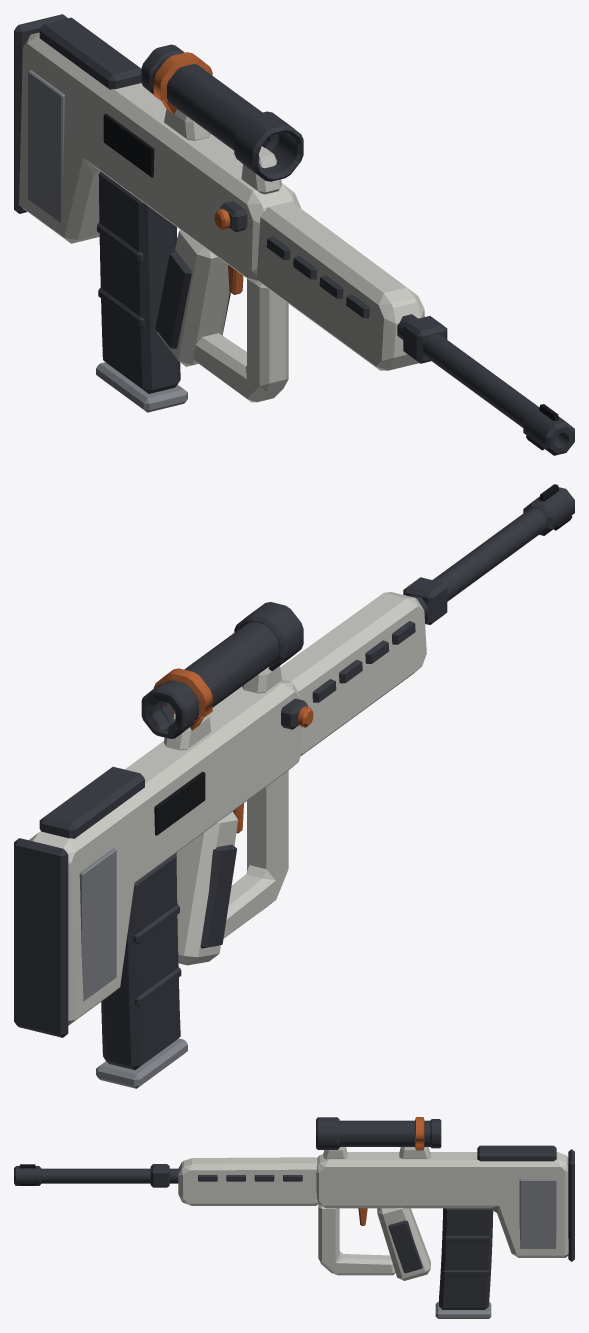
File: w_ar@ar_bullpup.glb
3 renders of one model, top to bottom at view 1: azimuth 30°, elevation 25°; view 2: azimuth 150°, elevation 25°; view 3: azimuth 270°, elevation 25°, orthographic. The views are drawn at different scales.
Visible parts, largest first — view 1: body_wzA__shell__pc6c7c1, guard_wzA__shell__pc6c7c1, mag_wzB__dark__p353840, grip_wzA__shell__pc6c7c1, optic_wzB__dark__p353840, barrel_wzB__dark__p353840, stock_wzB__dark__p353840, body_wzN__grey__p7e8288, grip_wzN__dark__p353840, trim_wzN__black__p16171b, mag_wzN__grey__p7e8288, optic_wzA__shell__pc6c7c1 (+2 smaller); view 2: body_wzA__shell__pc6c7c1, stock_wzB__dark__p353840, mag_wzB__dark__p353840, guard_wzA__shell__pc6c7c1, grip_wzA__shell__pc6c7c1, optic_wzB__dark__p353840, barrel_wzB__dark__p353840, body_wzN__grey__p7e8288, grip_wzN__dark__p353840, trim_wzN__black__p16171b, mag_wzN__grey__p7e8288, guard_wzN__dark__p353840 (+2 smaller); view 3: body_wzA__shell__pc6c7c1, guard_wzA__shell__pc6c7c1, mag_wzB__dark__p353840, grip_wzA__shell__pc6c7c1, optic_wzB__dark__p353840, barrel_wzB__dark__p353840, body_wzN__grey__p7e8288, stock_wzB__dark__p353840, grip_wzN__dark__p353840, optic_wzA__shell__pc6c7c1, mag_wzN__grey__p7e8288, guard_wzN__dark__p353840 (+1 smaller).
Part boxes in pixels (<box>): body_wzA__shell__pc6c7c1: <box>19,32,301,282</box>; guard_wzA__shell__pc6c7c1: <box>256,201,424,370</box>; mag_wzB__dark__p353840: <box>97,171,180,393</box>; grip_wzA__shell__pc6c7c1: <box>157,229,288,402</box>; optic_wzB__dark__p353840: <box>141,44,303,181</box>; barrel_wzB__dark__p353840: <box>397,314,574,455</box>; stock_wzB__dark__p353840: <box>14,14,141,213</box>; body_wzN__grey__p7e8288: <box>28,70,64,222</box>; grip_wzN__dark__p353840: <box>155,250,230,348</box>; trim_wzN__black__p16171b: <box>103,113,558,450</box>; mag_wzN__grey__p7e8288: <box>96,362,187,412</box>; optic_wzA__shell__pc6c7c1: <box>164,109,281,194</box>; body_wzA__shell__pc6c7c1: <box>29,680,302,1025</box>; stock_wzB__dark__p353840: <box>14,766,144,1037</box>; mag_wzB__dark__p353840: <box>101,854,181,1069</box>; guard_wzA__shell__pc6c7c1: <box>280,592,426,756</box>; grip_wzA__shell__pc6c7c1: <box>175,770,288,965</box>; optic_wzB__dark__p353840: <box>141,602,303,738</box>; barrel_wzB__dark__p353840: <box>403,487,574,624</box>; body_wzN__grey__p7e8288: <box>79,848,116,1000</box>; grip_wzN__dark__p353840: <box>200,844,236,948</box>; trim_wzN__black__p16171b: <box>154,484,572,835</box>; mag_wzN__grey__p7e8288: <box>96,1038,187,1088</box>; guard_wzN__dark__p353840: <box>312,621,415,702</box>; body_wzA__shell__pc6c7c1: <box>316,1152,568,1257</box>; guard_wzA__shell__pc6c7c1: <box>178,1157,317,1205</box>; mag_wzB__dark__p353840: <box>439,1208,493,1309</box>; grip_wzA__shell__pc6c7c1: <box>318,1205,430,1280</box>; optic_wzB__dark__p353840: <box>316,1117,441,1149</box>; barrel_wzB__dark__p353840: <box>14,1164,179,1187</box>; body_wzN__grey__p7e8288: <box>519,1179,556,1248</box>; stock_wzB__dark__p353840: <box>477,1145,574,1261</box>; grip_wzN__dark__p353840: <box>388,1220,422,1273</box>; optic_wzA__shell__pc6c7c1: <box>323,1147,430,1159</box>; mag_wzN__grey__p7e8288: <box>435,1301,491,1318</box>; guard_wzN__dark__p353840: <box>198,1175,302,1181</box>.
Size of the model in its own units: 0.0967 by 0.456 by 1.19.
